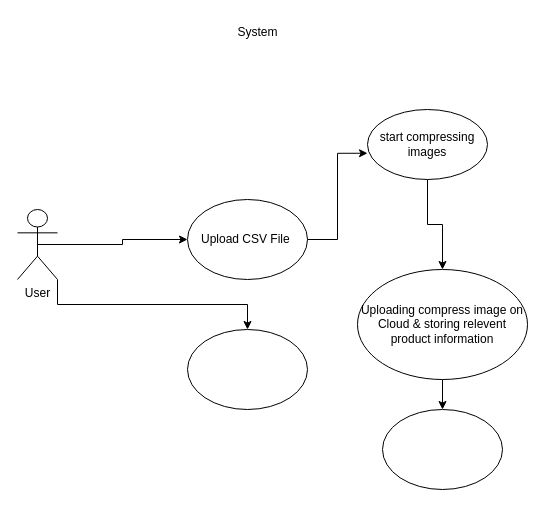
The diagram is 545 pixels wide and 507 high, and some of its shapes have lost their labels. The box of each missing label's shape, as (x1, y1, x2, y2) in pixels:
after complition calling webhook endpoint: (382, 408, 502, 490)
Status of Processing image: (186, 328, 308, 410)
